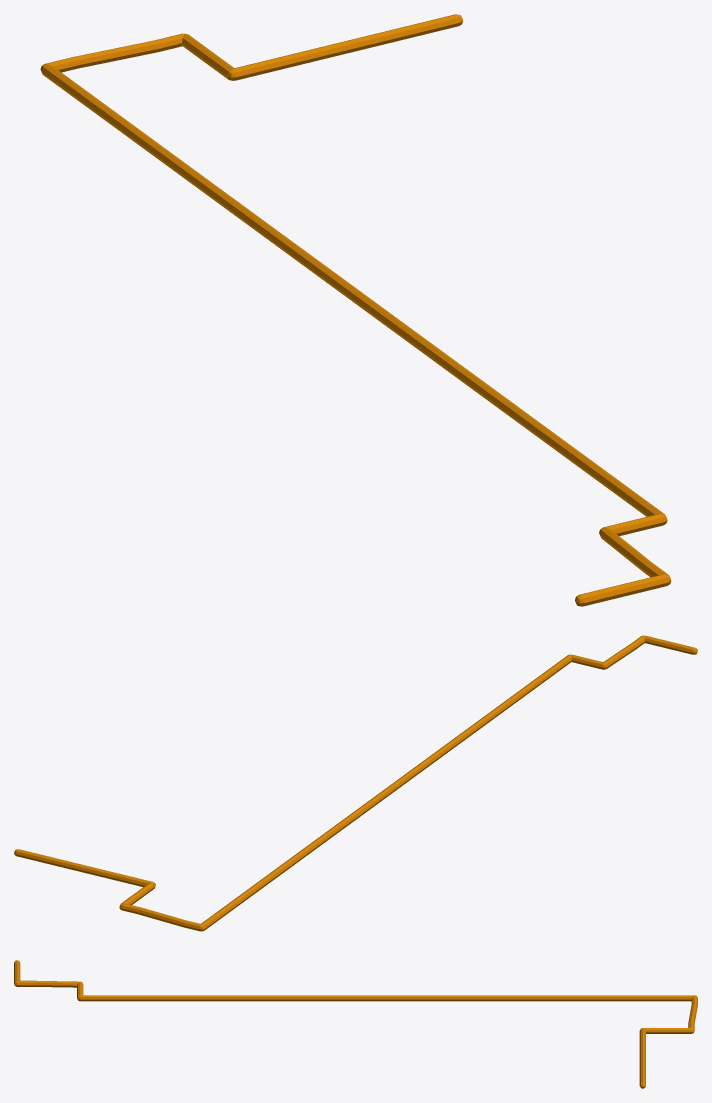
3 views of the same model, one above another, from view 1: azimuth 30°, elevation 25°; view 2: azimuth 150°, elevation 25°; view 3: azimuth 270°, elevation 25° (orthographic). The views are drawn at different scales.
Size of the model in its own units: 915 by 20 by 2115.
